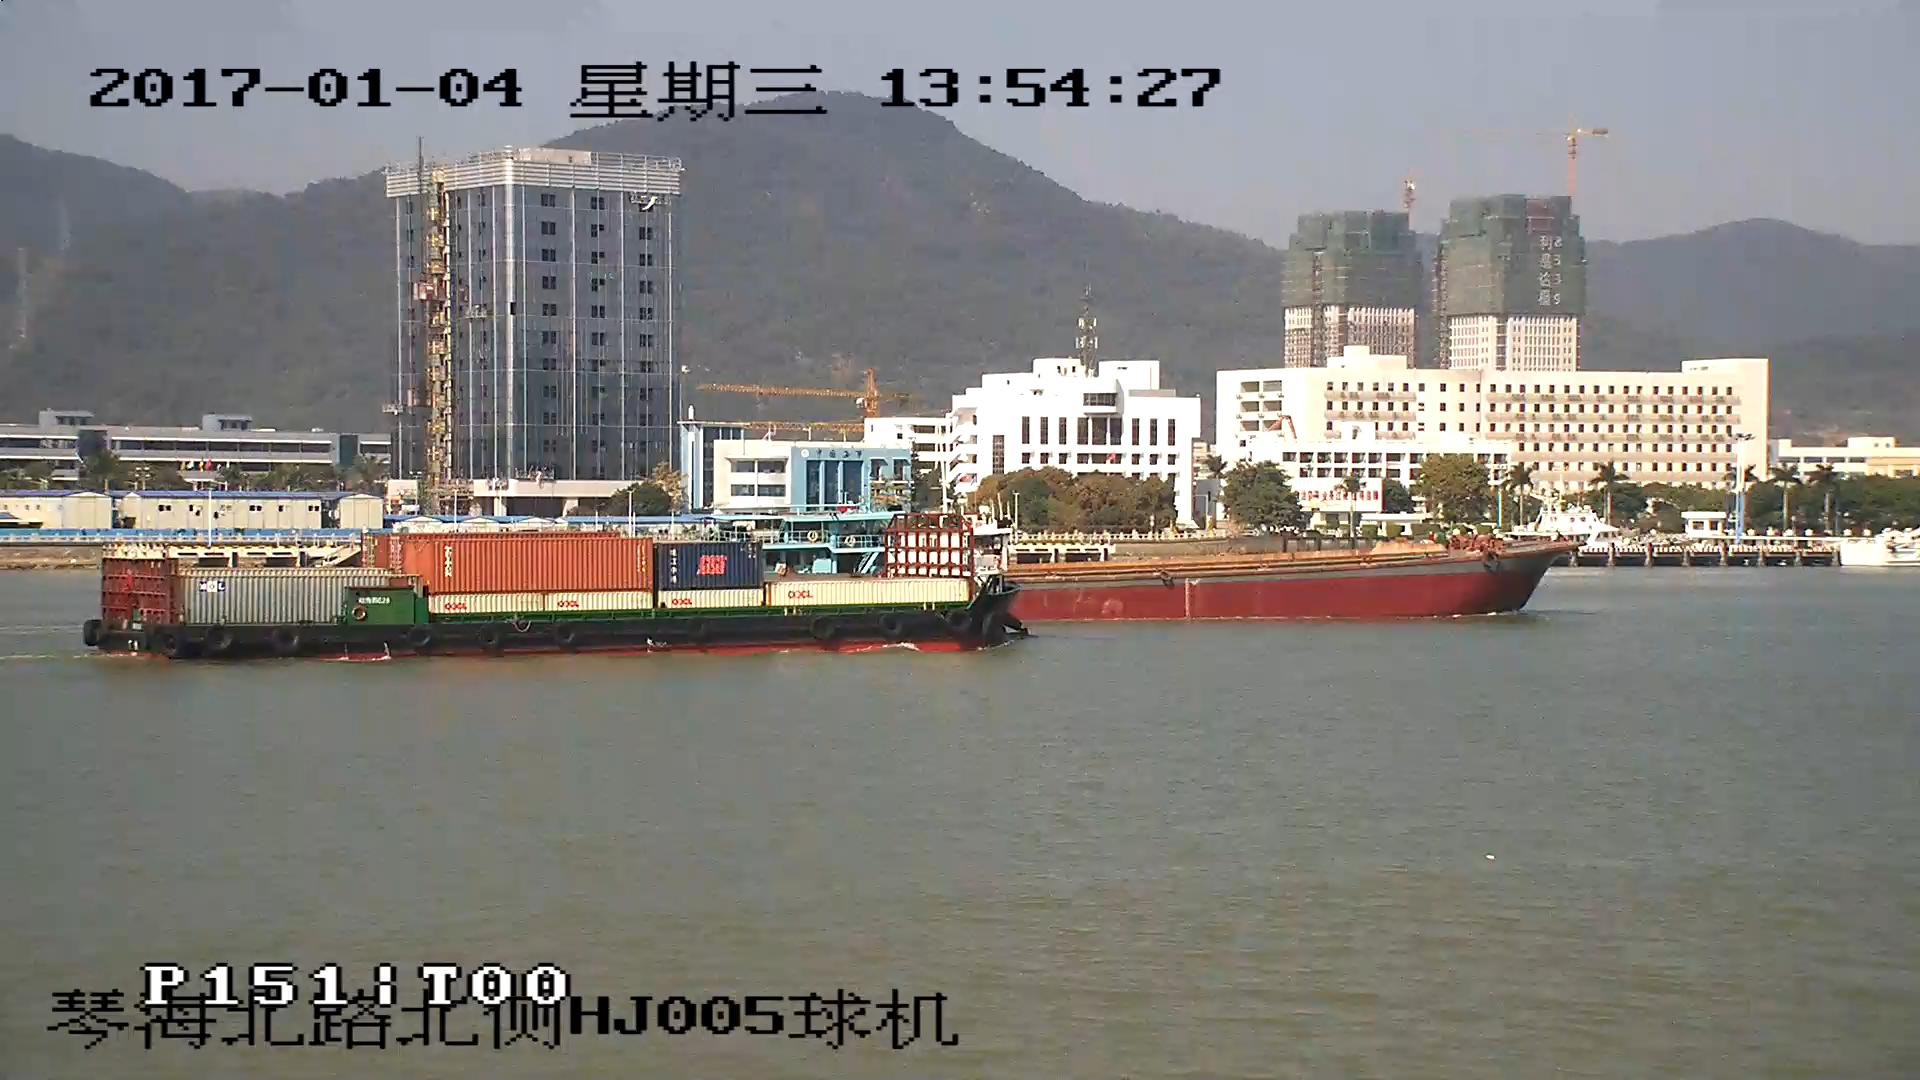bulk cargo carrier: (1016, 538, 1580, 622)
container ship: (85, 515, 1017, 660)
